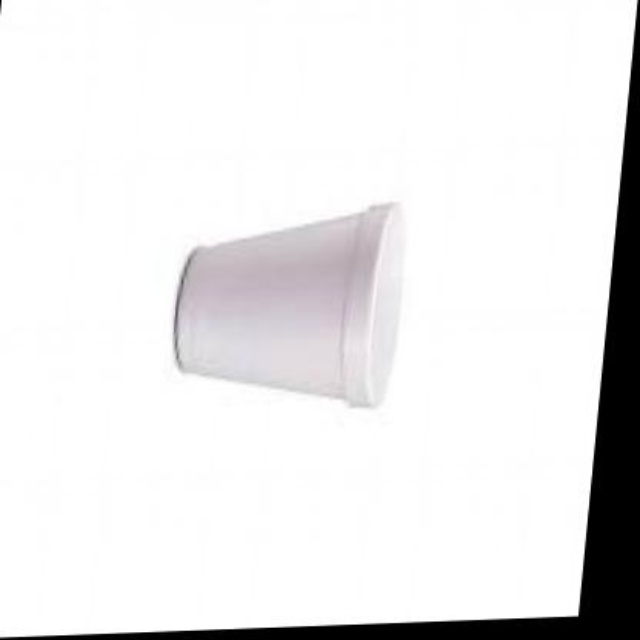trash: (174, 203, 402, 405)
